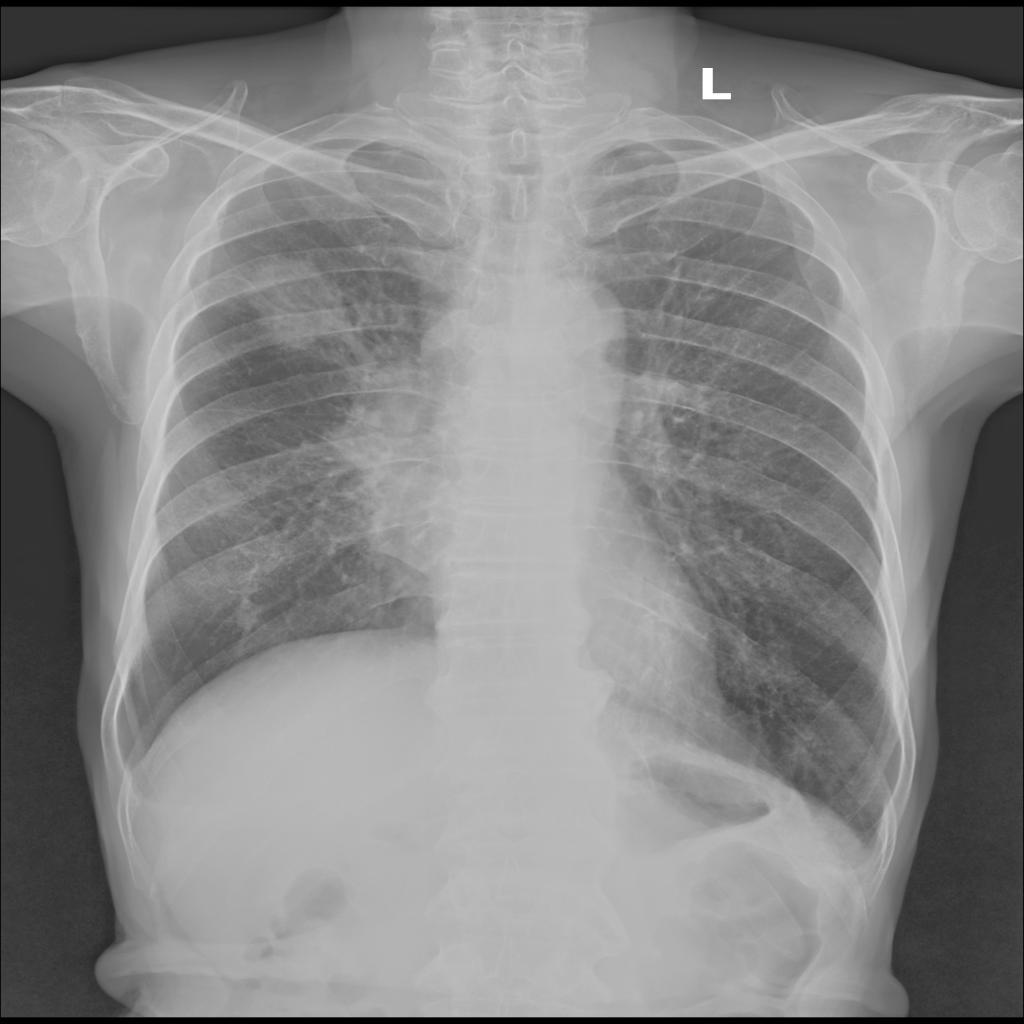Nodule: (243, 261, 349, 346)
